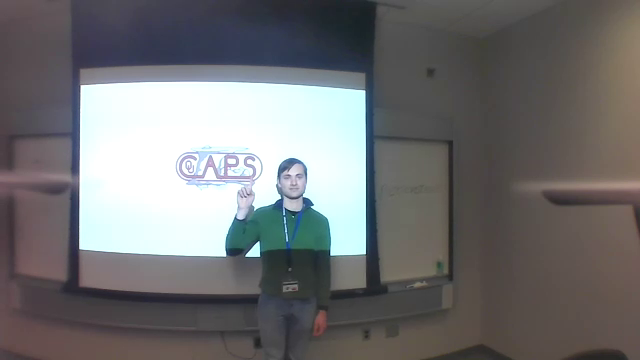up: (233, 172, 258, 205)
